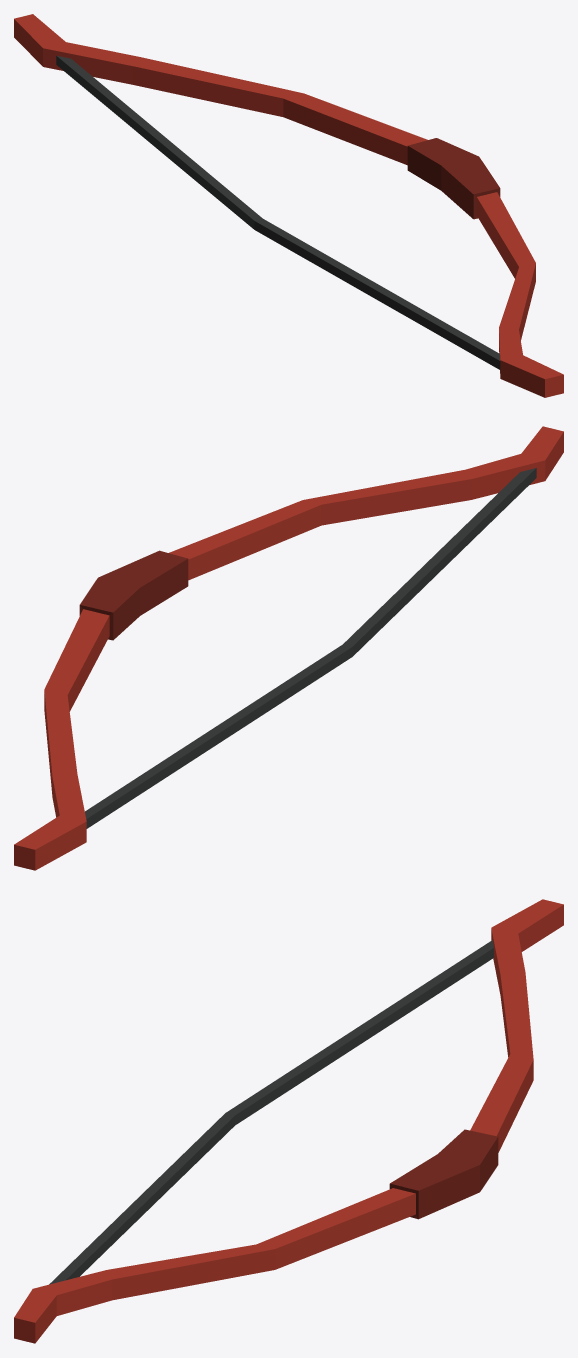
Rendered from Bow_1_Red.fbx.
3 views of the same model, one above another, from view 1: azimuth 30°, elevation 25°; view 2: azimuth 150°, elevation 25°; view 3: azimuth 330°, elevation 25° (orthographic). The views are drawn at different scales.
Parts seen in each view (by area): view 1: Bow_1_Red_Part_1, Bow_1_Red_Part_3, Bow_1_Red_Part_2; view 2: Bow_1_Red_Part_1, Bow_1_Red_Part_3, Bow_1_Red_Part_2; view 3: Bow_1_Red_Part_1, Bow_1_Red_Part_3, Bow_1_Red_Part_2.
Part boxes in pixels (x1,y1,x2,y2): Bow_1_Red_Part_1: [14, 14, 563, 397]; Bow_1_Red_Part_3: [56, 55, 500, 369]; Bow_1_Red_Part_2: [407, 138, 500, 219]; Bow_1_Red_Part_1: [14, 426, 563, 870]; Bow_1_Red_Part_3: [85, 468, 536, 828]; Bow_1_Red_Part_2: [79, 550, 188, 640]; Bow_1_Red_Part_1: [14, 899, 563, 1343]; Bow_1_Red_Part_3: [49, 940, 493, 1284]; Bow_1_Red_Part_2: [389, 1129, 498, 1219].
Bounding box in the file's own units: 26.03 × 2.81 × 100.
